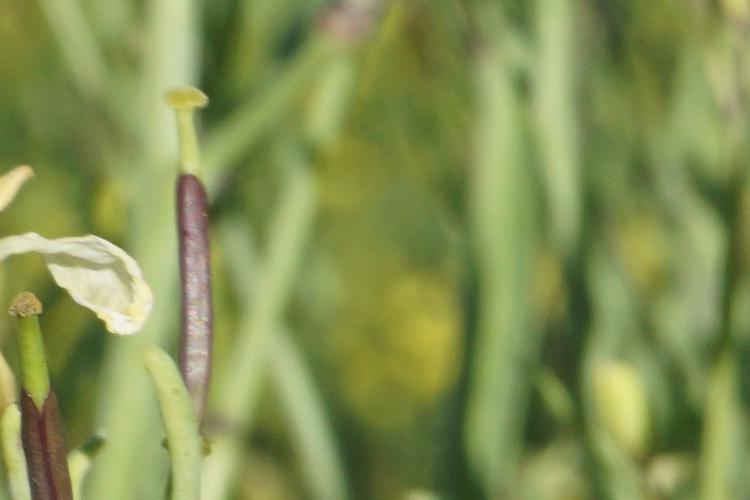pod: (153, 89, 226, 413), (6, 295, 90, 500)
white: (7, 195, 155, 336)
